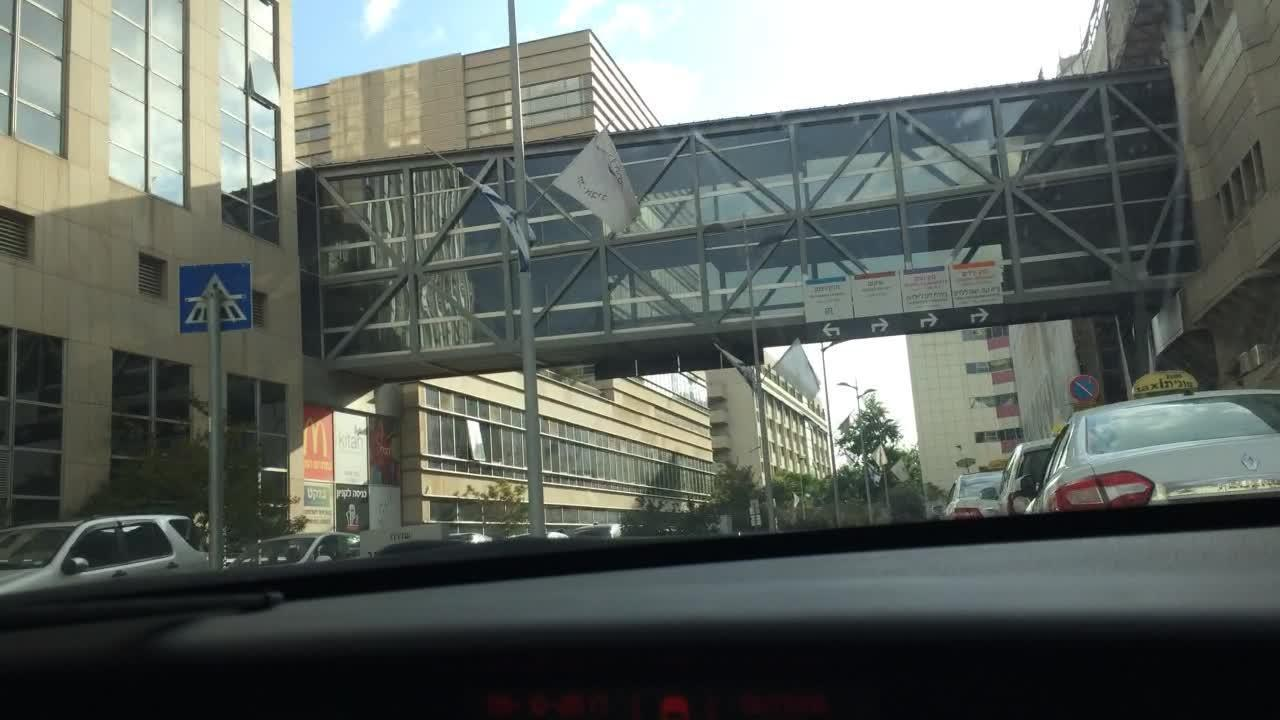Renault: (1234, 444, 1265, 482)
